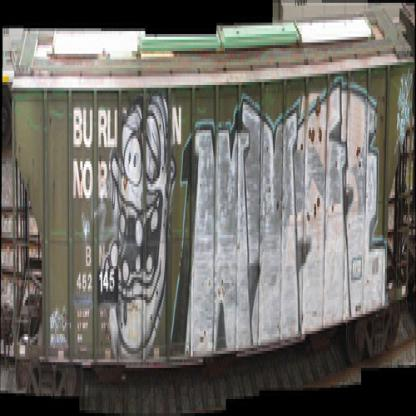train: (10, 6, 415, 396)
